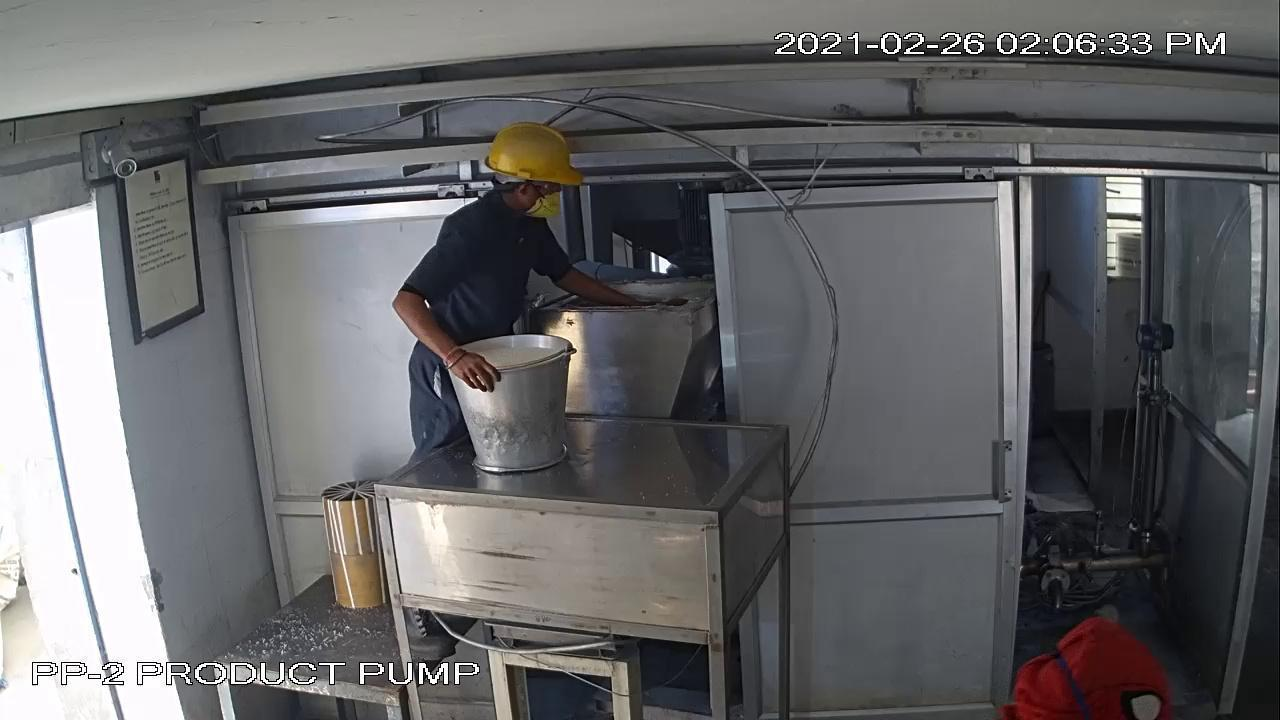helmet: (467, 116, 595, 196)
